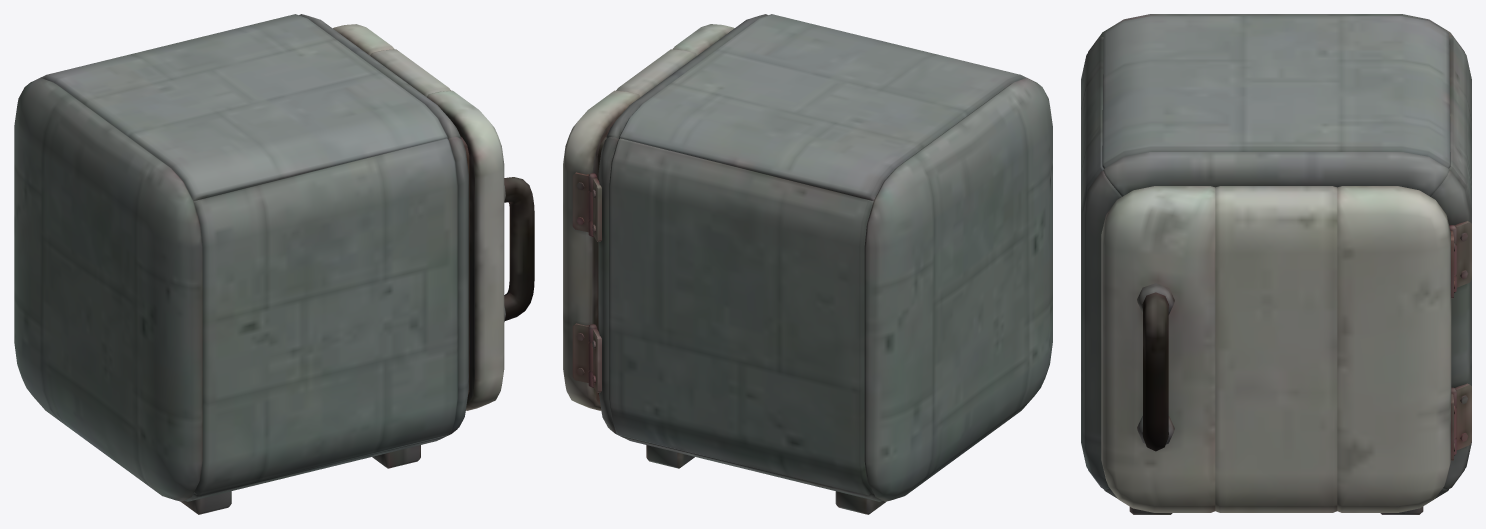
File: SM_FridgeSmall_5962b6.glb
3 views of the same model, side by side, from view 1: azimuth 30°, elevation 25°; view 2: azimuth 150°, elevation 25°; view 3: azimuth 270°, elevation 25° (orthographic). The views are drawn at different scales.
Bounding box in the file's own units: 1.03 × 0.874 × 0.8245.
Materials: 1 (1 with a texture image).
